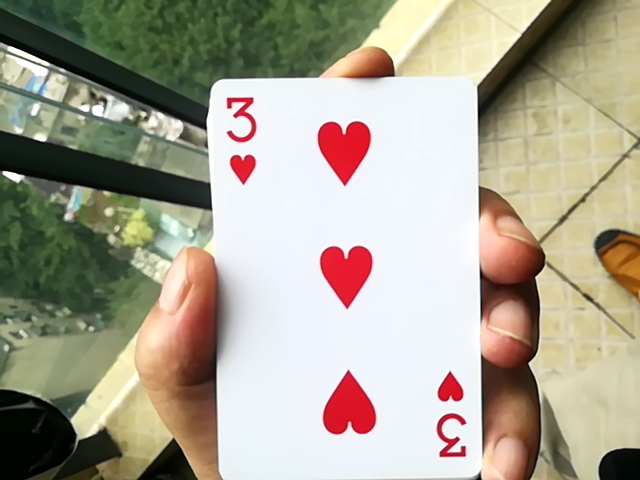hx 3: (199, 65, 478, 480)
